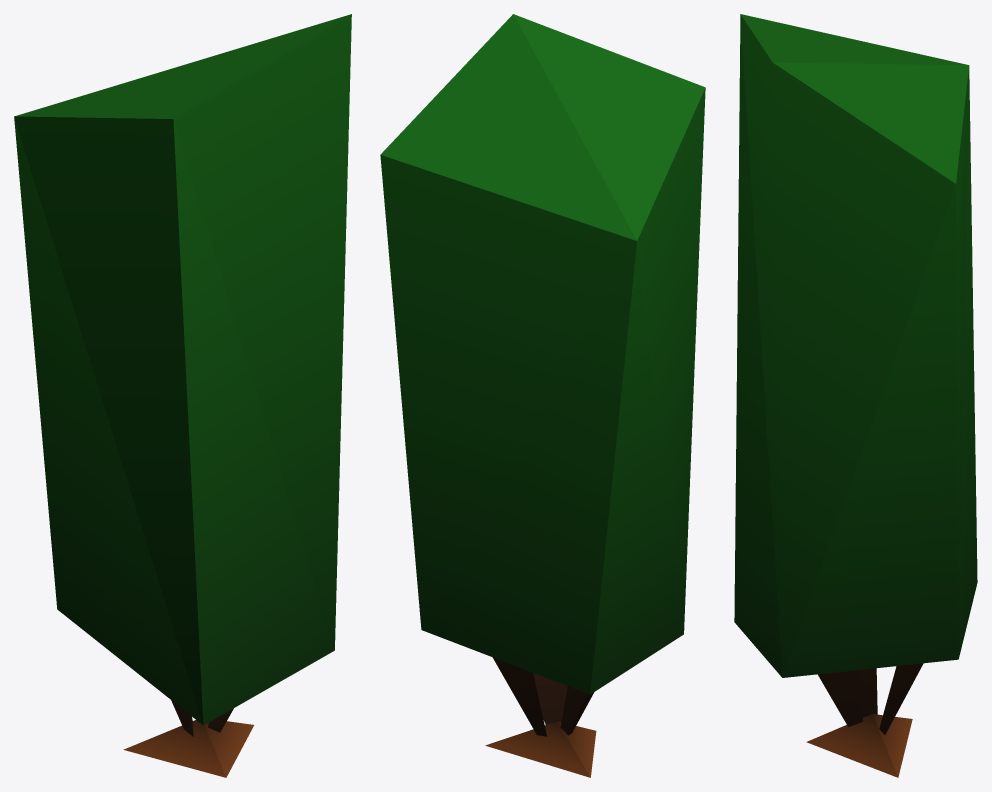
The model's file is c_hedge_vertical_square_aa.fbx.
The picture shows the model from 3 angles, left to right: view 1: azimuth 30°, elevation 25°; view 2: azimuth 150°, elevation 25°; view 3: azimuth 270°, elevation 25°; orthographic projection. The views are drawn at different scales.
Parts seen in each view (by area): view 1: c_hedge_vertical_square_aa; view 2: c_hedge_vertical_square_aa; view 3: c_hedge_vertical_square_aa.
Part boxes in pixels (box(x1,y1,x2,y2)): c_hedge_vertical_square_aa: box(14, 14, 351, 777); c_hedge_vertical_square_aa: box(380, 14, 705, 777); c_hedge_vertical_square_aa: box(734, 14, 977, 777).
Size of the model in its own units: 1.2 by 3.03 by 0.8955.
